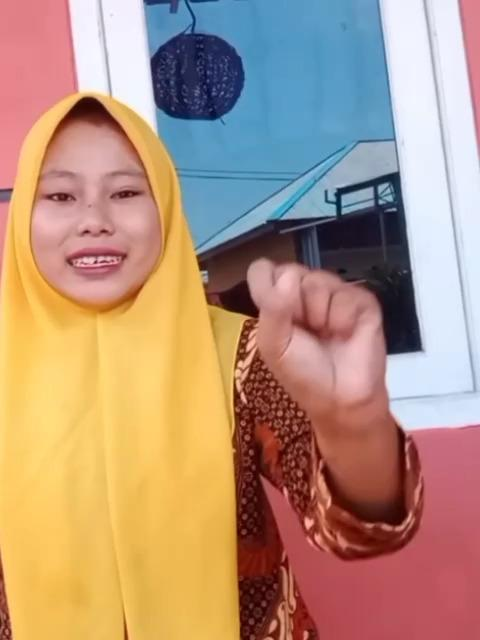S: (246, 260, 388, 410)
